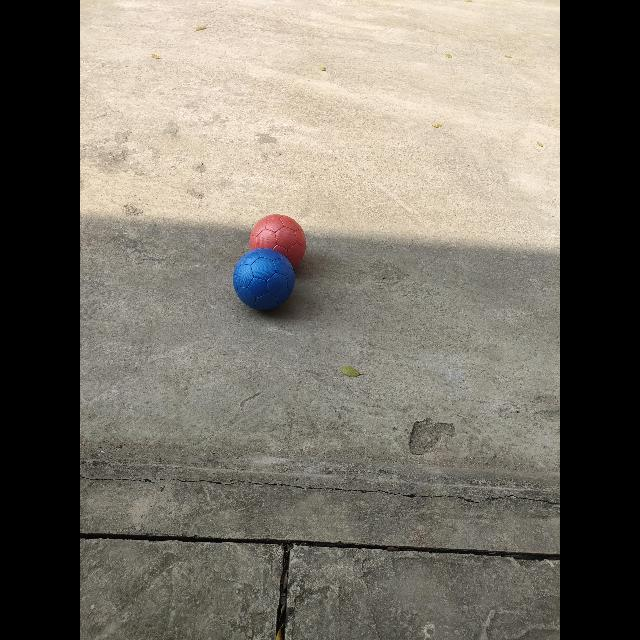B: (232, 249, 295, 310)
R: (250, 215, 306, 266)
